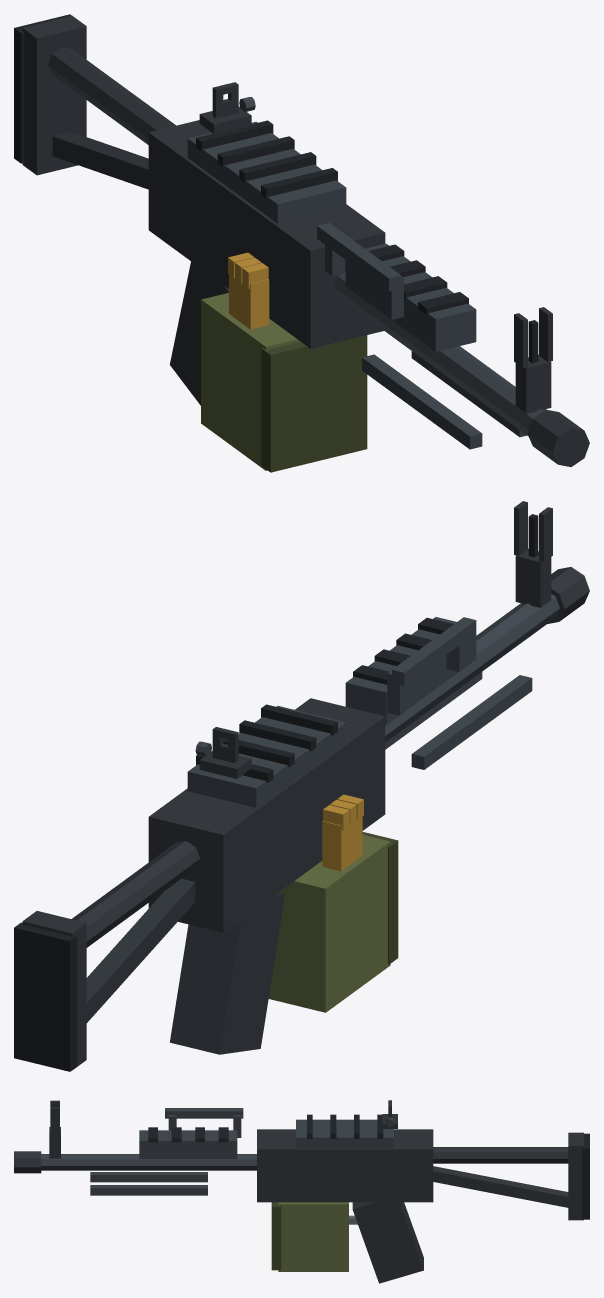
The model's file is wpn_m249.fbx.
3 views of the same model, one above another, from view 1: azimuth 30°, elevation 25°; view 2: azimuth 150°, elevation 25°; view 3: azimuth 270°, elevation 25° (orthographic). The views are drawn at different scales.
Visible parts, largest first — view 1: wpn_m249; view 2: wpn_m249; view 3: wpn_m249.
Part boxes in pixels (x1=…): wpn_m249: x1=14, y1=14, x2=589, y2=472; wpn_m249: x1=14, y1=501, x2=589, y2=1071; wpn_m249: x1=14, y1=1100, x2=589, y2=1283.
Bounding box in the file's own units: 32.5 × 97.93 × 294.
